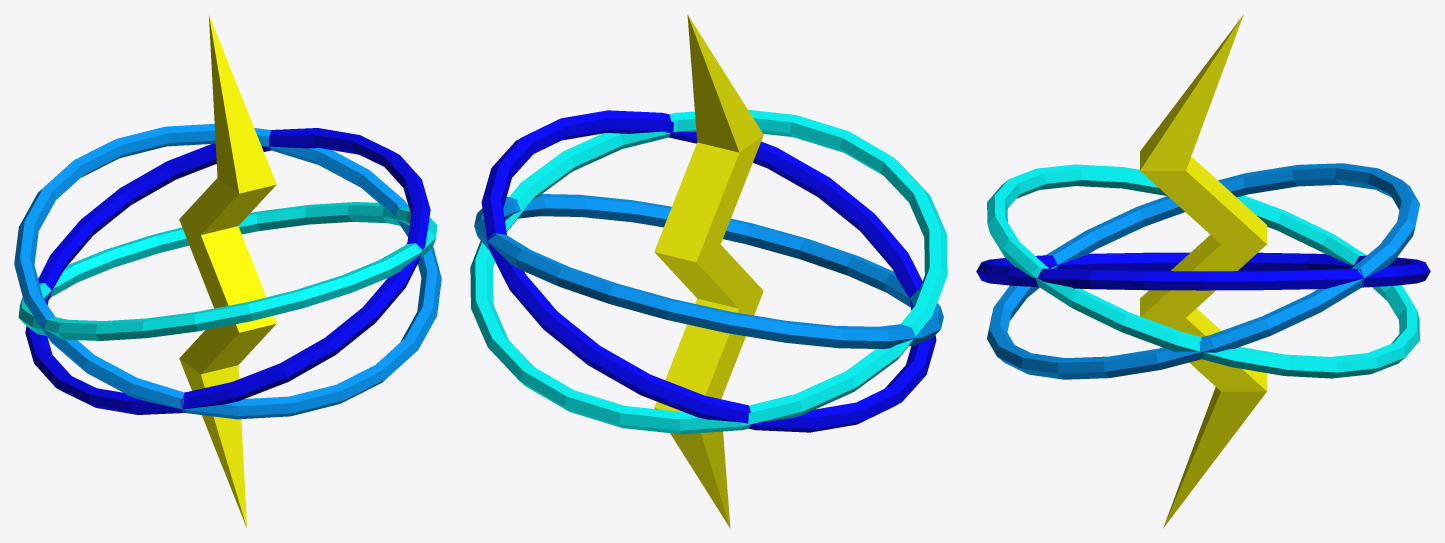
File: foudre.fbx
3 renders of one model, left to right at view 1: azimuth 30°, elevation 25°; view 2: azimuth 150°, elevation 25°; view 3: azimuth 270°, elevation 25°, orthographic. The views are drawn at different scales.
Parts seen in each view (by area): view 1: Torus.003, Torus.001, Torus.002, Cône.009, Cône.010; view 2: Torus.002, Torus.001, Torus.003, Cône.009, Cône.010; view 3: Torus.003, Torus.002, Torus.001, Cône.009, Cône.010.
Boxes of the visible parts, bbox=[...] form: Torus.003: bbox=[14, 124, 441, 419]; Torus.001: bbox=[25, 128, 430, 414]; Torus.002: bbox=[18, 202, 437, 340]; Cône.009: bbox=[179, 15, 276, 283]; Cône.010: bbox=[179, 268, 276, 527]; Torus.002: bbox=[470, 110, 947, 434]; Torus.001: bbox=[481, 110, 936, 432]; Torus.003: bbox=[474, 194, 943, 348]; Cône.009: bbox=[654, 14, 763, 285]; Cône.010: bbox=[654, 268, 763, 528]; Torus.003: bbox=[987, 163, 1419, 379]; Torus.002: bbox=[987, 164, 1419, 378]; Torus.001: bbox=[976, 252, 1430, 290]; Cône.009: bbox=[1140, 14, 1266, 271]; Cône.010: bbox=[1140, 262, 1266, 528].
Bounding box in the file's own units: 209 × 263 × 210.
